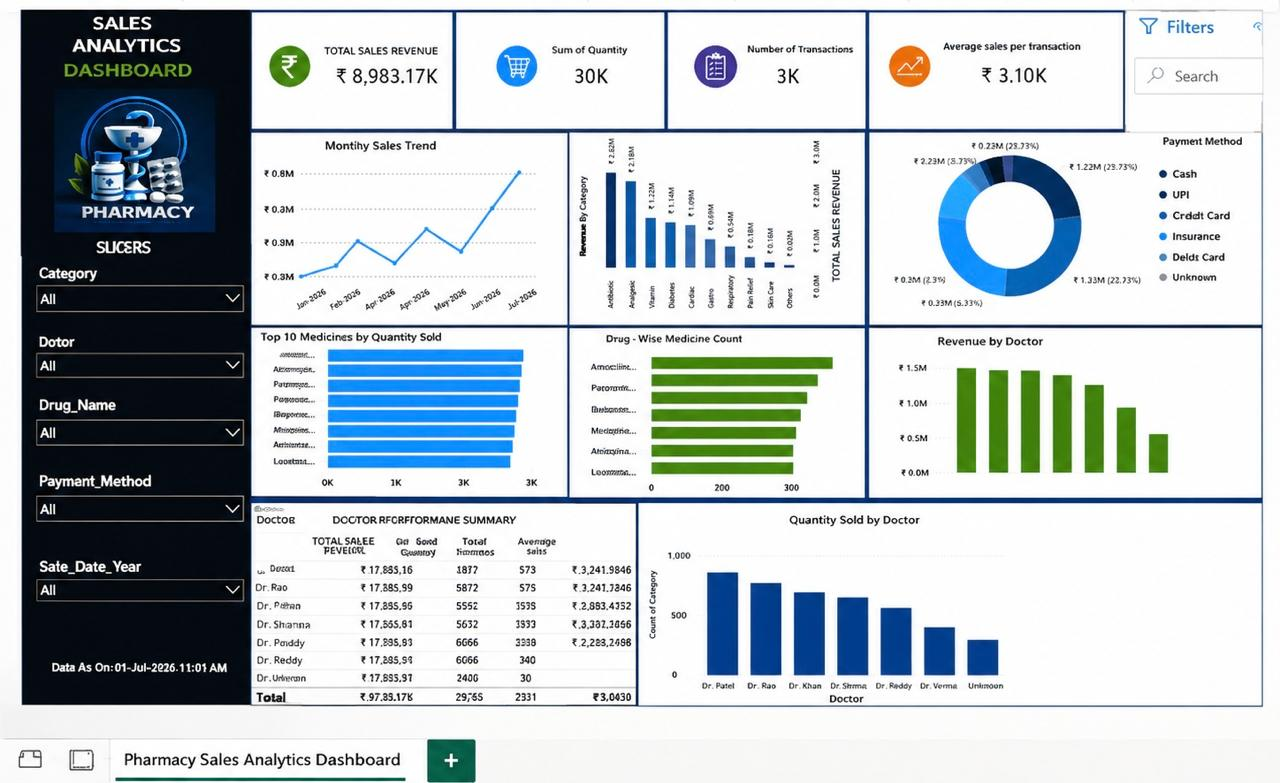

The dashboard page shown, as its layout file describes it:
{"tool":"powerbi","page":{"name":": Pharmacy Sales Analytics Dashboard ","canvas":[2200,1500],"ordinal":0},"visuals":[{"type":"textbox","box":[10,0,280,280],"z":0},{"type":"shape","box":[0,0,402.5,1500.5],"z":1000},{"type":"textbox","box":[8.2,10.2,395.4,199.7],"z":2000},{"type":"image","box":[0,206.4,402.5,287.9],"z":3000},{"type":"textbox","box":[0,494.2,402.5,45.9],"z":4000},{"type":"slicer","fields":{"Values":["pharmacy_sales_messy_3000_recor.Category"]},"box":[7,540.1,392.3,92],"z":5000},{"type":"slicer","fields":{"Values":["pharmacy_sales_messy_3000_recor.Drug_Name"]},"box":[5.1,777,394.9,94.3],"z":6000},{"type":"slicer","fields":{"Values":["pharmacy_sales_messy_3000_recor.Doctor"]},"box":[2.5,657.3,397.4,91.7],"z":7000},{"type":"slicer","fields":{"Values":["pharmacy_sales_messy_3000_recor.Payment_Method"]},"box":[5.1,914.6,394.9,104.5],"z":8000},{"type":"slicer","fields":{"Values":["pharmacy_sales_messy_3000_recor.Sale_Date","pharmacy_sales_messy_3000_recor.Sale_Date.Variation.Date Hierarchy.Year"]},"box":[7.6,1062.3,392.3,101.9],"z":9000},{"type":"cardVisual","fields":{"Data":["pharmacy_sales_messy_3000_recor.TOTAL SALES REVENUE"]},"box":[407.6,0,404,315.6],"z":10000},{"type":"cardVisual","fields":{"Data":["Sum(pharmacy_sales_messy_3000_recor.Quantity)"]},"box":[823.6,0,430.2,309.4],"z":11000},{"type":"cardVisual","fields":{"Data":["pharmacy_sales_messy_3000_recor.Number of Transactions"]},"box":[1266.2,0,429.8,309.1],"z":12000},{"type":"cardVisual","fields":{"Data":["pharmacy_sales_messy_3000_recor.Average sales per transaction"]},"box":[1710.9,0,489.1,309.1],"z":13000},{"type":"lineChart","title":"Monthly Sales Trend","fields":{"Category":["pharmacy_sales_messy_3000_recor.Sale_Date.Variation.Date Hierarchy.Month"],"Y":["pharmacy_sales_messy_3000_recor.Total sales"]},"box":[407.6,318.4,578.3,359.2],"z":14000},{"type":"clusteredBarChart","title":"Revenue by Category","fields":{"Category":["pharmacy_sales_messy_3000_recor.Category"],"Y":["pharmacy_sales_messy_3000_recor.TOTAL SALES REVENUE"]},"box":[1001.2,318.4,598.7,359.2],"z":15000},{"type":"donutChart","title":"Revenue by Payment Method","fields":{"Category":["pharmacy_sales_messy_3000_recor.Payment_Method"],"Y":["pharmacy_sales_messy_3000_recor.TOTAL SALES REVENUE"]},"box":[1617.7,310.8,583.4,351.6],"z":16000},{"type":"clusteredBarChart","title":"Top 10 Medicines by Quantity Sold","fields":{"Category":["pharmacy_sales_messy_3000_recor.Drug_Name"],"Y":["pharmacy_sales_messy_3000_recor.Total Quantity Sold"]},"box":[407.6,680.2,578.3,415.3],"z":17000},{"type":"barChart","title":"Drug -Wise Medicine Count","fields":{"Category":["pharmacy_sales_messy_3000_recor.Drug_Name"],"Y":["CountNonNull(pharmacy_sales_messy_3000_recor.Drug_Name)"]},"box":[1001.2,680.2,598.7,415.3],"z":18000},{"type":"clusteredBarChart","title":"Revenue by Doctor","fields":{"Category":["pharmacy_sales_messy_3000_recor.Doctor"],"Y":["pharmacy_sales_messy_3000_recor.TOTAL SALES REVENUE"]},"box":[1617.7,680.2,583.4,415.3],"z":19000},{"type":"tableEx","title":"DOCTOR PERFORMANCE SUMMARY","fields":{"Values":["pharmacy_sales_messy_3000_recor.Doctor","pharmacy_sales_messy_3000_recor.TOTAL SALES REVENUE","pharmacy_sales_messy_3000_recor.Total Quantity Sold","pharmacy_sales_messy_3000_recor.Number of Transactions","pharmacy_sales_messy_3000_recor.Average sales"]},"box":[407.6,1112.8,1040.7,386],"z":20000},{"type":"clusteredColumnChart","title":"Quantity Sold by Doctor","fields":{"Category":["pharmacy_sales_messy_3000_recor.Category"],"Y":["CountNonNull(pharmacy_sales_messy_3000_recor.Category)"]},"box":[1460.9,1112.8,739.5,387.8],"z":21000},{"type":"image","box":[443.7,101,88.4,117.2],"z":22000},{"type":"image","box":[889.2,113.6,124.4,83],"z":23000},{"type":"image","box":[1300.4,110,115.4,95.6],"z":24000},{"type":"image","box":[1735,119,113.6,83],"z":25000},{"type":"cardVisual","fields":{"Data":["pharmacy_sales_messy_3000_recor.Data As On"]},"box":[2.5,1271.2,400,137.6],"z":26000}]}

Visuals, with their boxes on the page's 2200x1500 design canvas (x1, y1, x2, y2). These are canvas units, not pixel positions in the 1280x783 screenshot, which may show the page scaled, cropped or inside an application window:
textbox: (10,0,290,280)
shape: (0,0,402,1500)
textbox: (8,10,404,210)
image: (0,206,402,494)
textbox: (0,494,402,540)
slicer - pharmacy_sales_messy_3000_recor.Category: (7,540,399,632)
slicer - pharmacy_sales_messy_3000_recor.Drug_Name: (5,777,400,871)
slicer - pharmacy_sales_messy_3000_recor.Doctor: (2,657,400,749)
slicer - pharmacy_sales_messy_3000_recor.Payment_Method: (5,915,400,1019)
slicer - pharmacy_sales_messy_3000_recor.Sale_Date x pharmacy_sales_messy_3000_recor.Sale_Date.Variation.Date Hierarchy.Year: (8,1062,400,1164)
cardVisual - pharmacy_sales_messy_3000_recor.TOTAL SALES REVENUE: (408,0,812,316)
cardVisual - Sum(pharmacy_sales_messy_3000_recor.Quantity): (824,0,1254,309)
cardVisual - pharmacy_sales_messy_3000_recor.Number of Transactions: (1266,0,1696,309)
cardVisual - pharmacy_sales_messy_3000_recor.Average sales per transaction: (1711,0,2200,309)
"Monthly Sales Trend" lineChart: (408,318,986,678)
"Revenue by Category" clusteredBarChart: (1001,318,1600,678)
"Revenue by Payment Method" donutChart: (1618,311,2201,662)
"Top 10 Medicines by Quantity Sold" clusteredBarChart: (408,680,986,1096)
"Drug -Wise Medicine Count" barChart: (1001,680,1600,1096)
"Revenue by Doctor" clusteredBarChart: (1618,680,2201,1096)
"DOCTOR PERFORMANCE SUMMARY" tableEx: (408,1113,1448,1499)
"Quantity Sold by Doctor" clusteredColumnChart: (1461,1113,2200,1501)
image: (444,101,532,218)
image: (889,114,1014,197)
image: (1300,110,1416,206)
image: (1735,119,1849,202)
cardVisual - pharmacy_sales_messy_3000_recor.Data As On: (2,1271,402,1409)
